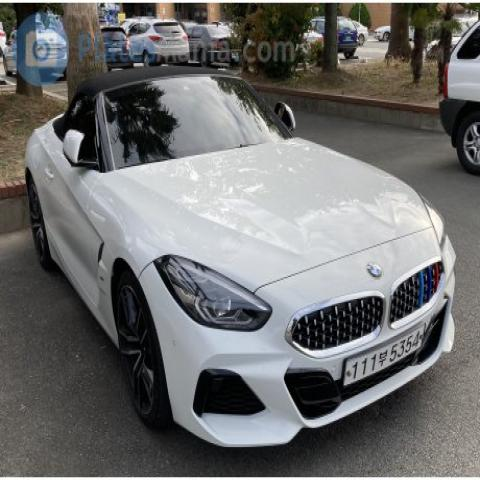LP: (335, 316, 439, 394)
